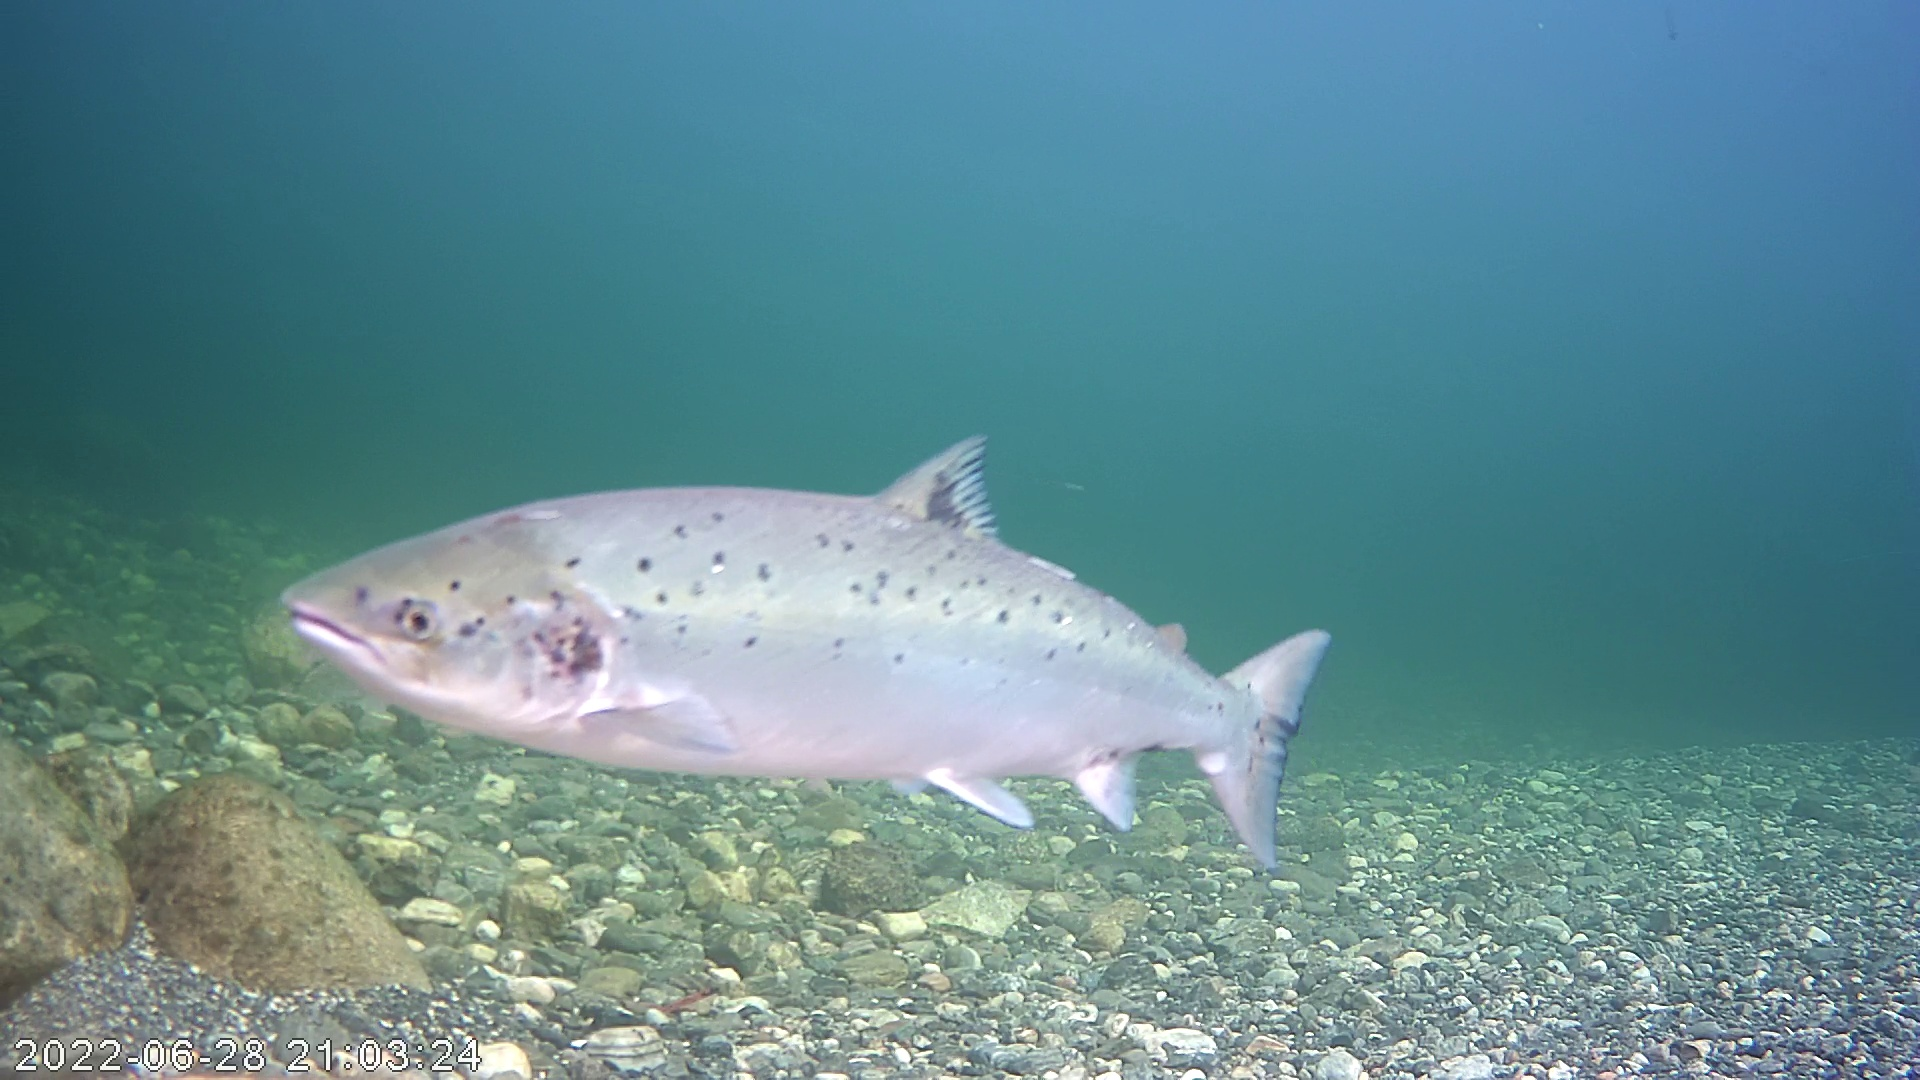salmon: (247, 386, 1341, 889)
